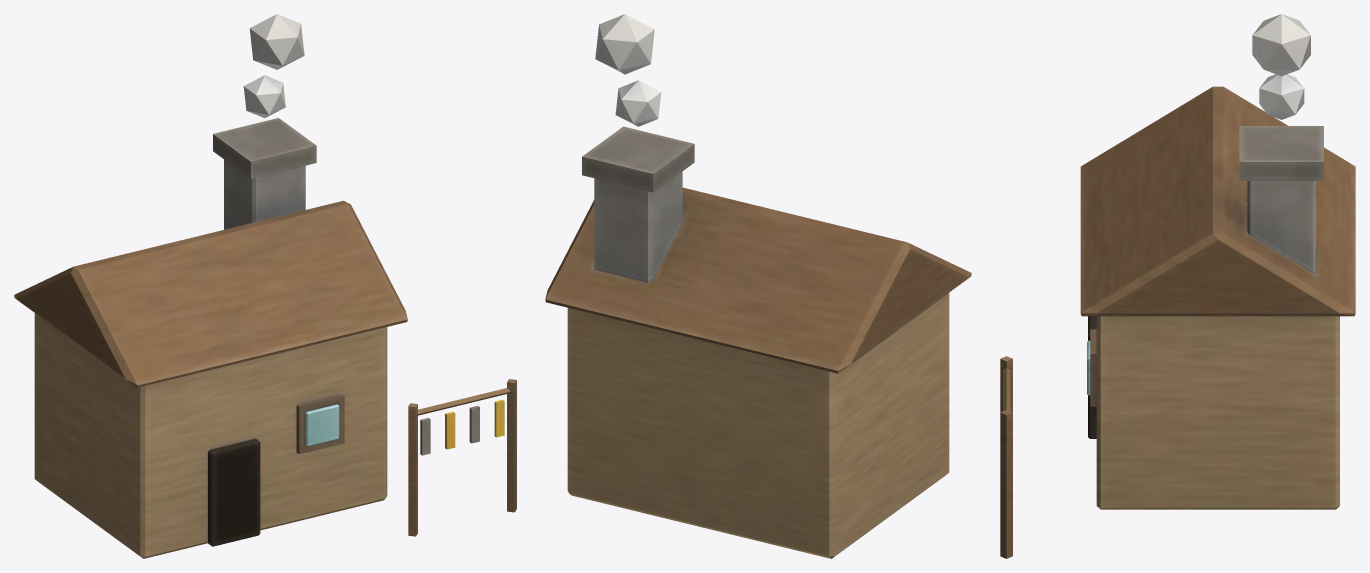
The model's file is smokehouse-2-age1.glb.
3 renders of one model, left to right at view 1: azimuth 30°, elevation 25°; view 2: azimuth 150°, elevation 25°; view 3: azimuth 270°, elevation 25°, orthographic. The views are drawn at different scales.
Visible parts, largest first — view 1: smokehouse-2-age1; view 2: smokehouse-2-age1; view 3: smokehouse-2-age1.
Part boxes in pixels (box(x1,y1,x2,y2)): smokehouse-2-age1: box(14, 14, 516, 558); smokehouse-2-age1: box(545, 14, 971, 558); smokehouse-2-age1: box(1000, 14, 1355, 558).
Size of the model in its own units: 0.852 by 1 by 0.672.
1 material, 1 textured.
